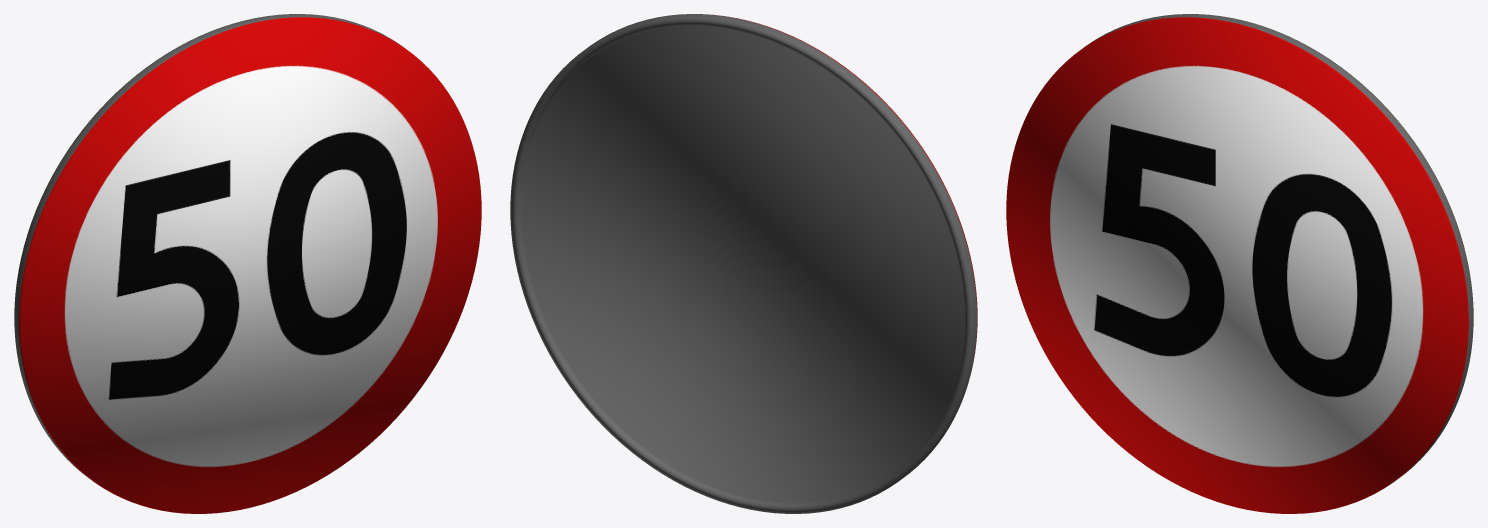
File: circle_sign_800mm.fbx
3 renders of one model, left to right at view 1: azimuth 30°, elevation 25°; view 2: azimuth 150°, elevation 25°; view 3: azimuth 330°, elevation 25°, orthographic.
Visible parts, largest first — view 1: circle_sign_800mm; view 2: circle_sign_800mm; view 3: circle_sign_800mm.
Part boxes in pixels (x1=…): circle_sign_800mm: x1=14, y1=14, x2=481, y2=513; circle_sign_800mm: x1=510, y1=14, x2=977, y2=513; circle_sign_800mm: x1=1006, y1=14, x2=1473, y2=513.
Bounding box in the file's own units: 80 × 80 × 2.
